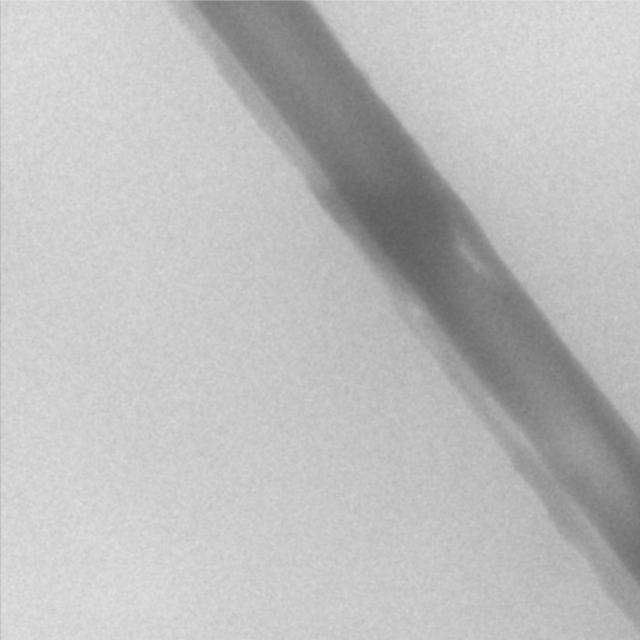unfused: (454, 232, 486, 268)
